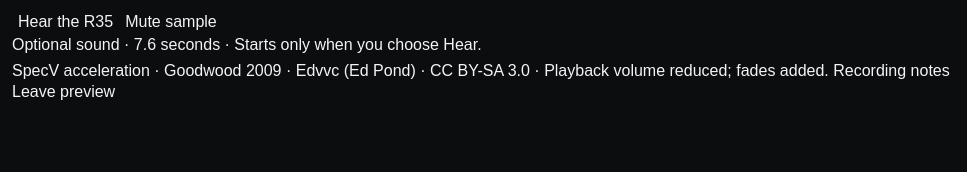
R35 Hear control › renders a recoverable error and makes Retry an explicit new gesture
Click the button "Hear the R35": {"x": 66, "y": 22} [12,12,119,32]
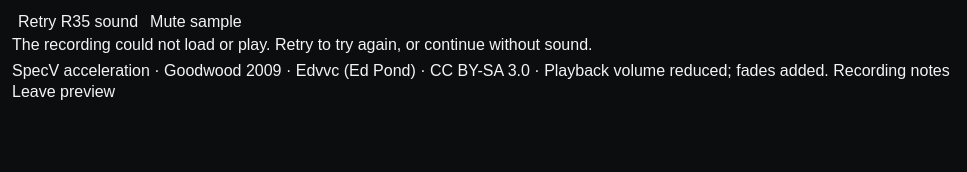
Now the message shows "could not load", box [12,36,592,53]
Click the button "Retry R35 sound": {"x": 78, "y": 22} [12,12,144,32]
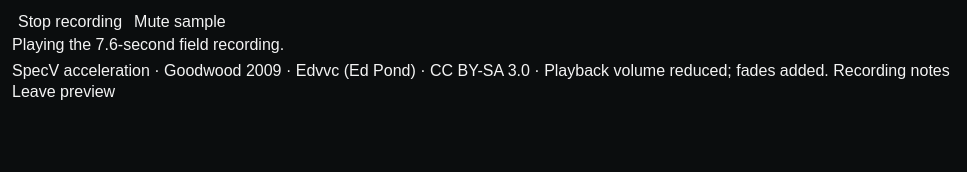
Now the button "Stop recording" is shown, box [12,12,128,32]
